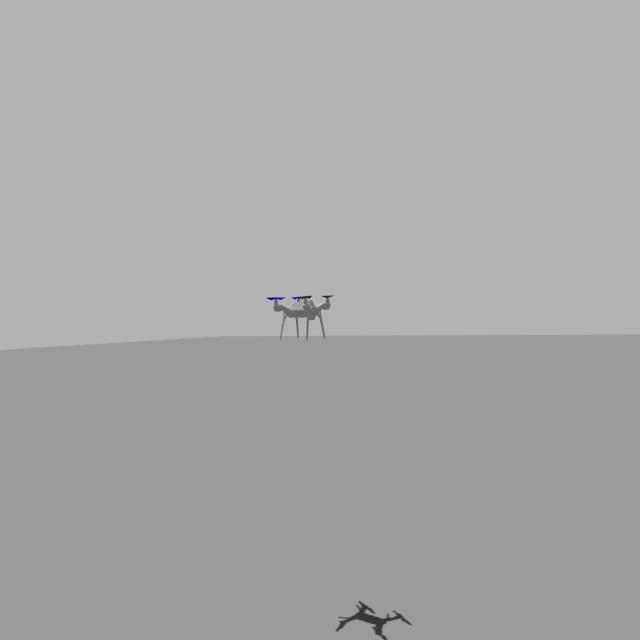Drone: (262, 285, 339, 346)
